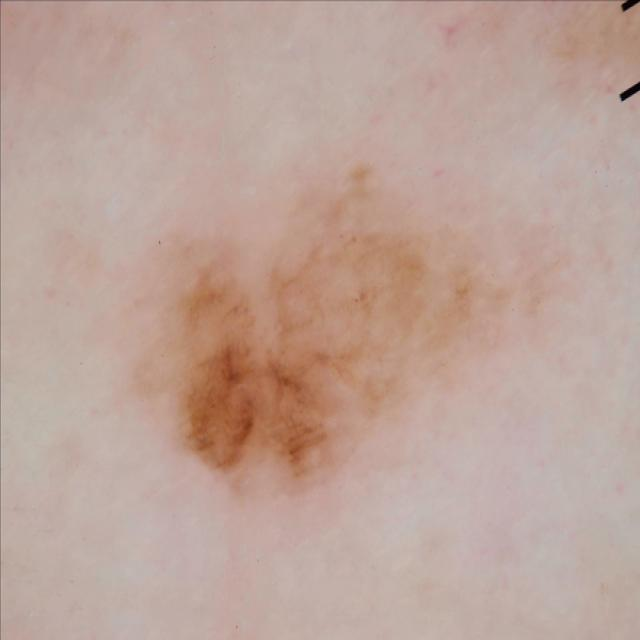NV: (101, 159, 575, 498)
